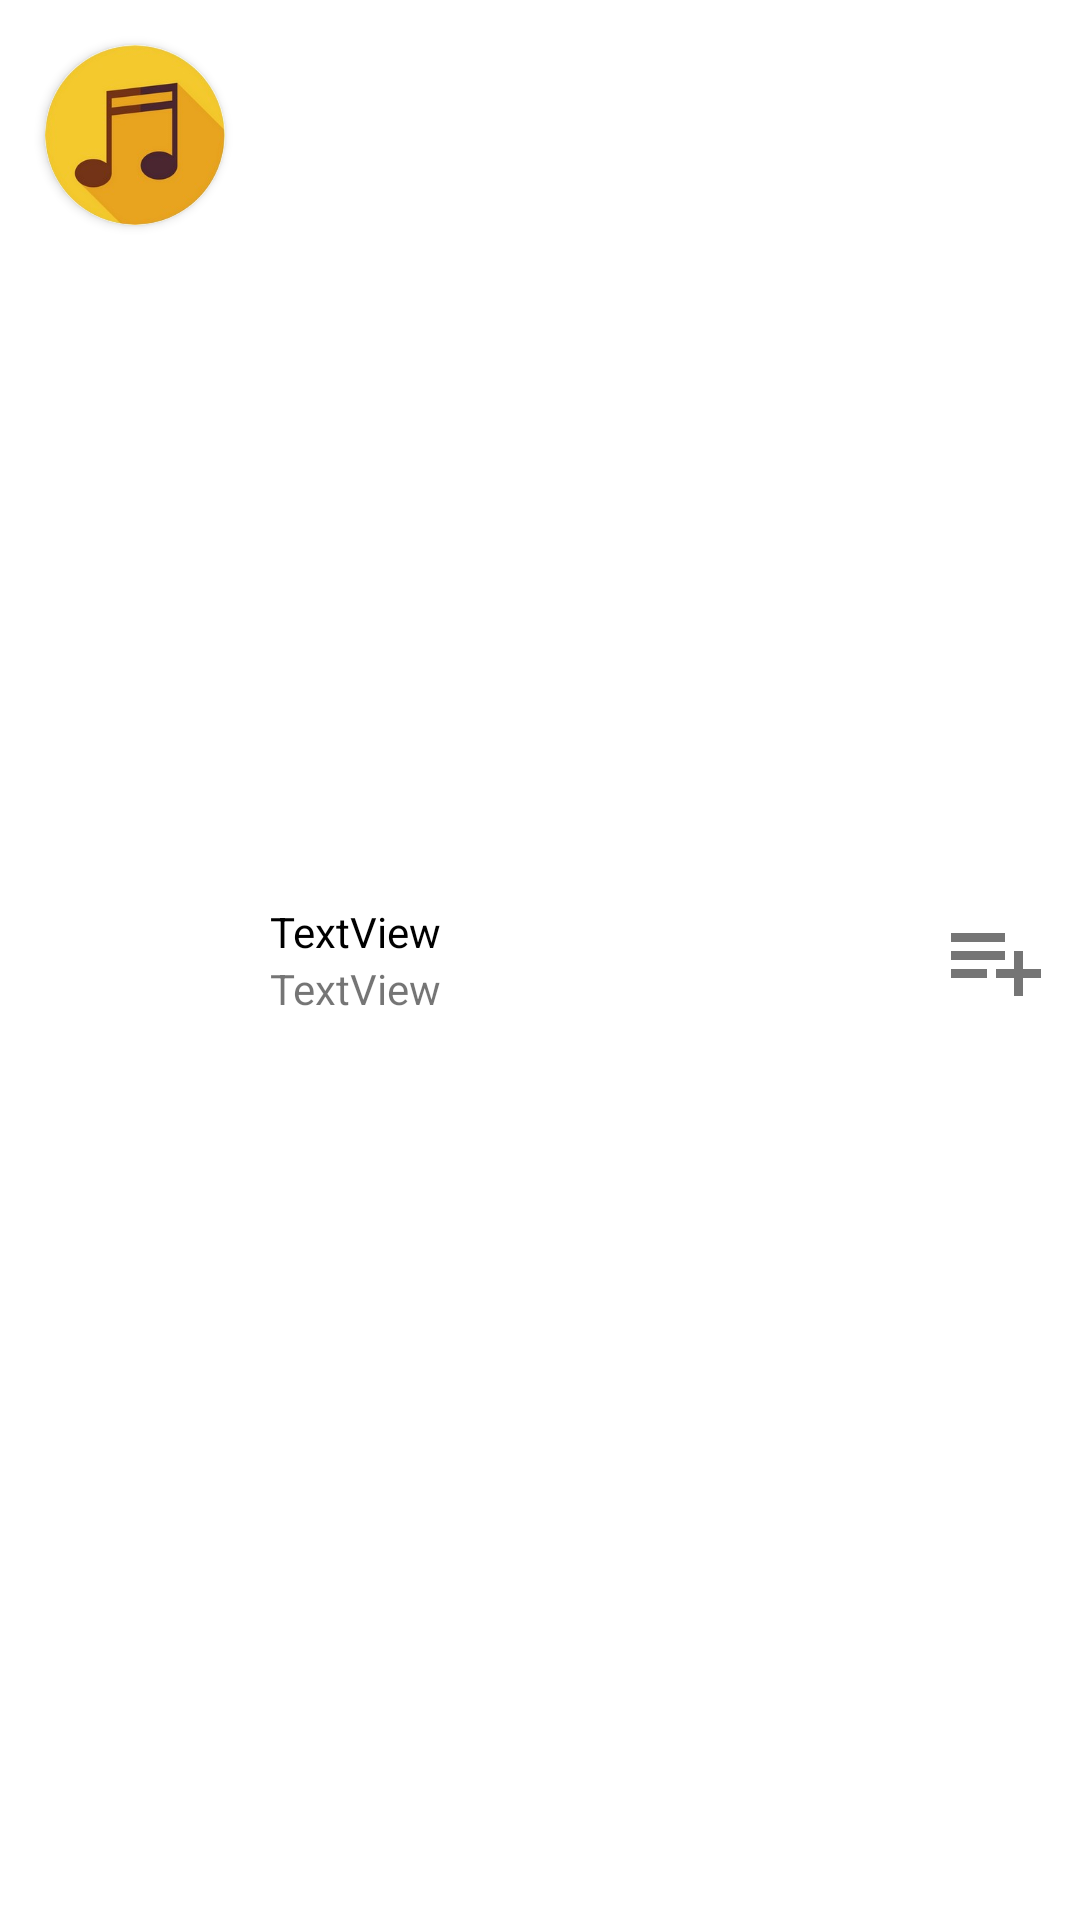

Where to tap for icons on this 1080px x 1920px app screen, as [x,y]:
playlist add: [996,964]
